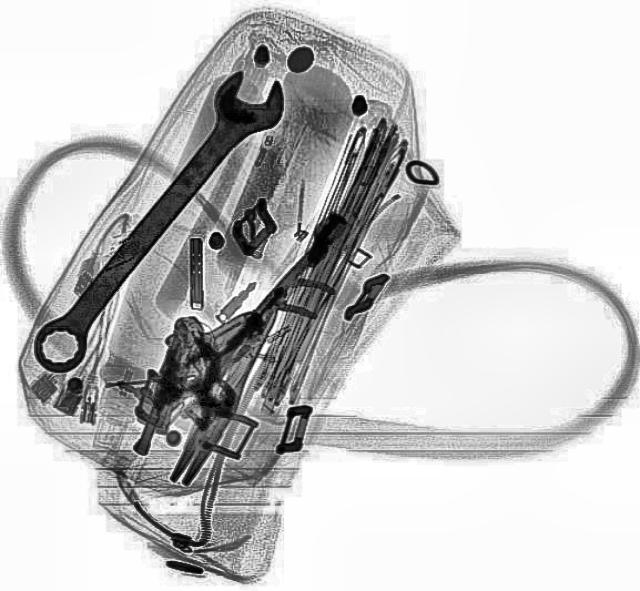Gun: (130, 298, 258, 470)
Wrench: (12, 57, 302, 383)
